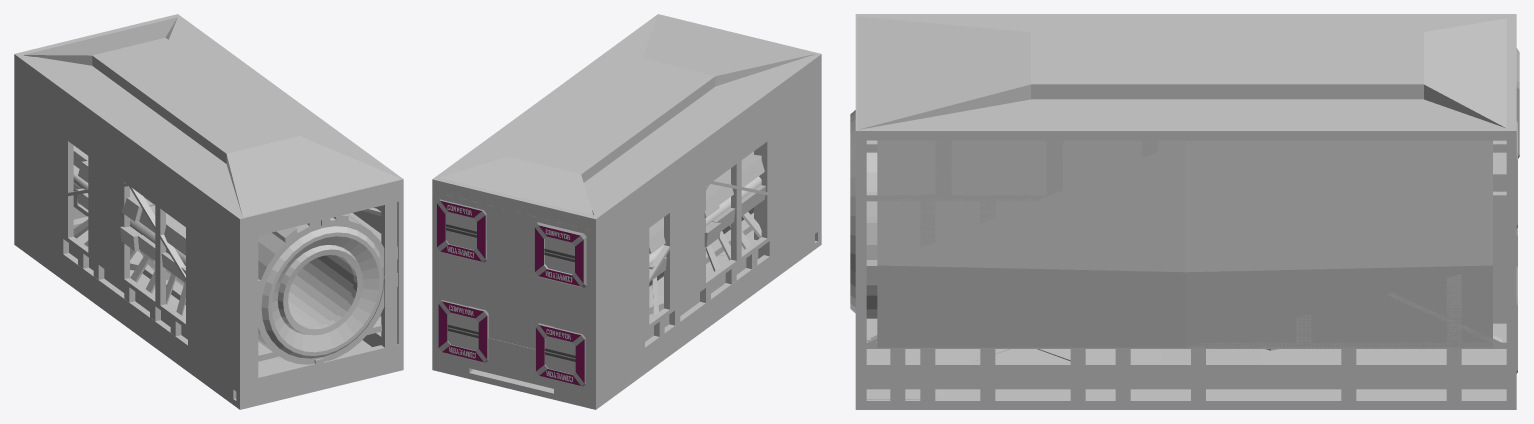
Rendered from Souper_R8EA_Launcher_Constr3.fbx.
The picture shows the model from 3 angles, left to right: view 1: azimuth 30°, elevation 25°; view 2: azimuth 150°, elevation 25°; view 3: azimuth 270°, elevation 25°; orthographic projection. The views are drawn at different scales.
Parts seen in each view (by area): view 1: Cube.065, Cylinder.054, Cylinder.052; view 2: Cube.065, Cylinder.054, Cube.061, Cube.071, Cube.070, Cube.069, Cylinder.052; view 3: Cube.065, Cylinder.054.
Part boxes in pixels (bbox=[...]): Cube.065: bbox=[14, 14, 403, 409]; Cylinder.054: bbox=[73, 145, 397, 364]; Cylinder.052: bbox=[73, 173, 185, 265]; Cube.065: bbox=[432, 14, 821, 409]; Cylinder.054: bbox=[649, 151, 765, 286]; Cube.061: bbox=[534, 222, 586, 287]; Cube.071: bbox=[535, 323, 585, 386]; Cube.070: bbox=[438, 300, 488, 362]; Cube.069: bbox=[436, 199, 486, 262]; Cylinder.052: bbox=[649, 176, 761, 264]; Cube.065: bbox=[855, 14, 1516, 409]; Cylinder.054: bbox=[850, 110, 877, 318].
Bounding box in the file's own units: 4.54 × 5 × 10.2.
